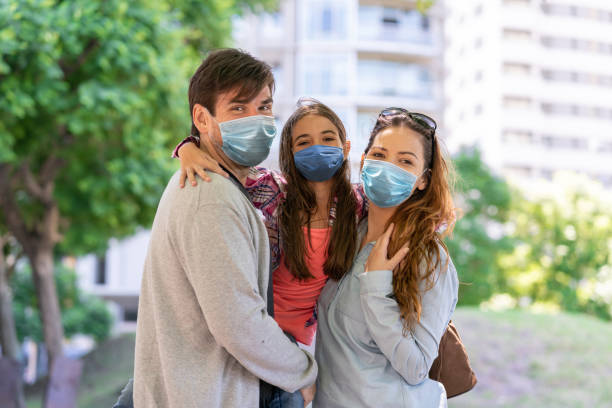with mask: (199, 64, 279, 168), (355, 115, 424, 204), (286, 107, 348, 184)
